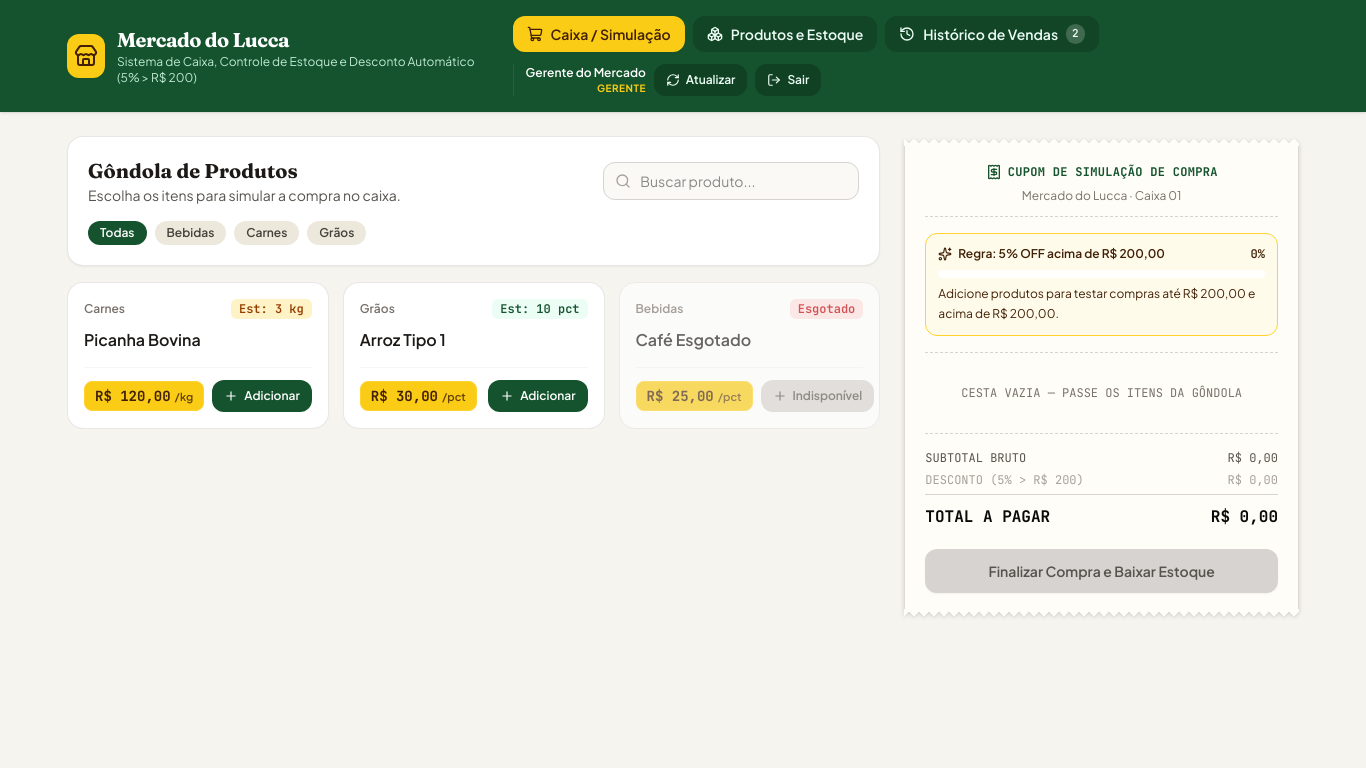
Test: Mercado do Lucca — Fluxos completos com Auth e RBAC › exibe historico de vendas com e sem desconto e estado vazio
The width and height of the screenshot is (1366, 768).
Later steps or results of the test are not shown.
expect the heading "Picanha Bovina" is shown: met, box [84,329,201,350]
Step 1. Click the link "Histórico de Vendas 2" → click(992, 34), box [885,16,1099,52]
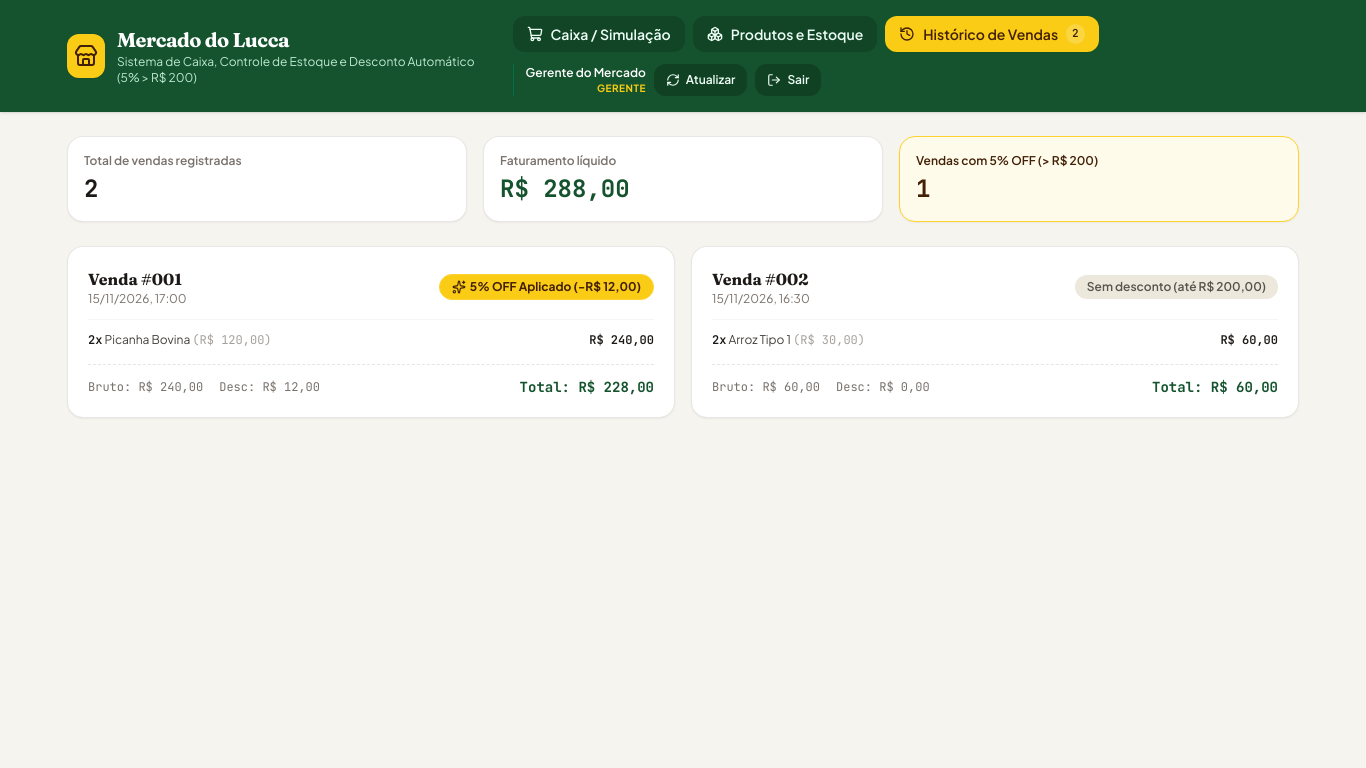
expect the heading "Venda #001" is shown: met, box [88,267,187,291]
expect the text "5% OFF Aplicado (-R$ 12,00)" is shown: met, box [439,274,654,300]
expect the heading "Venda #002" is shown: met, box [712,267,810,291]
